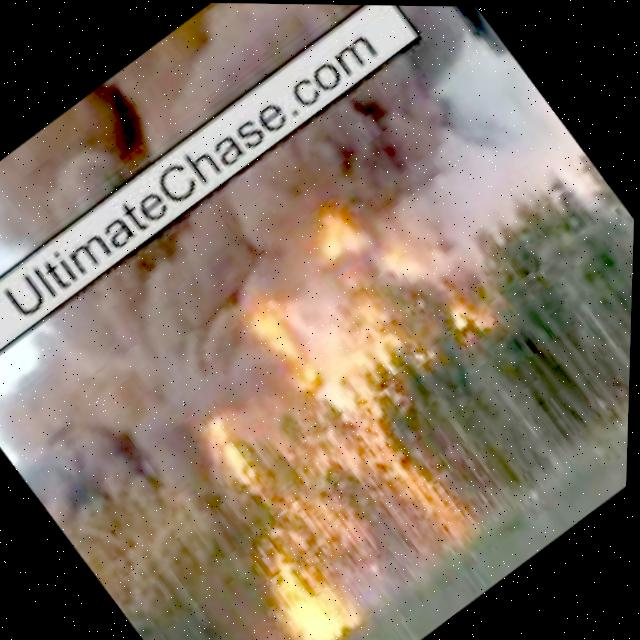Fire: (203, 185, 579, 585), (220, 497, 376, 640), (189, 404, 291, 518)
Smoke: (0, 0, 539, 479), (0, 0, 434, 285), (22, 317, 301, 568), (376, 83, 607, 298)
